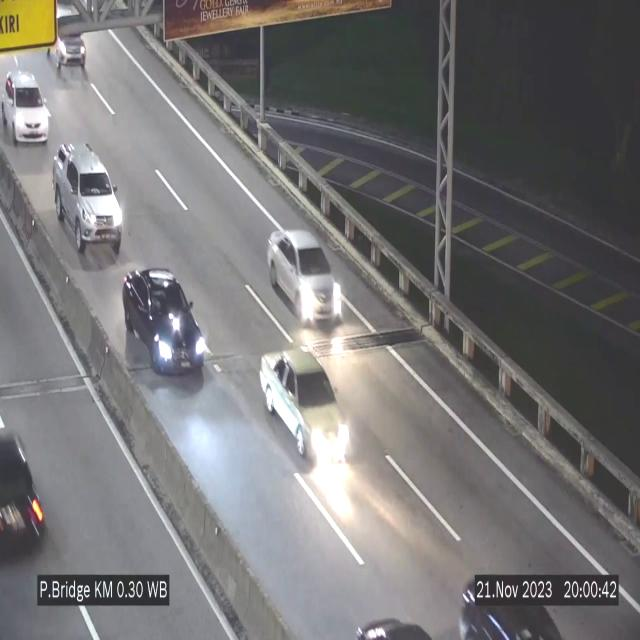Car: (260, 351, 350, 464), (123, 267, 207, 377), (53, 142, 123, 262), (266, 230, 343, 324), (0, 412, 46, 560), (457, 576, 563, 640), (1, 70, 48, 144), (46, 9, 92, 76)
